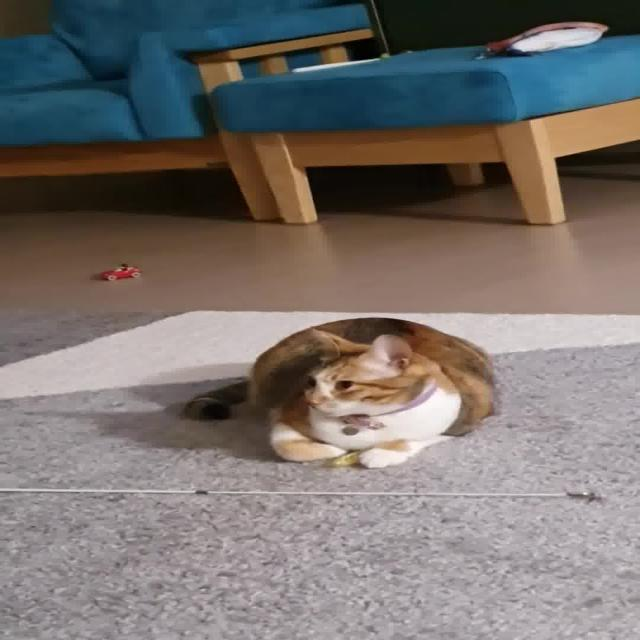cat: (153, 292, 517, 478)
